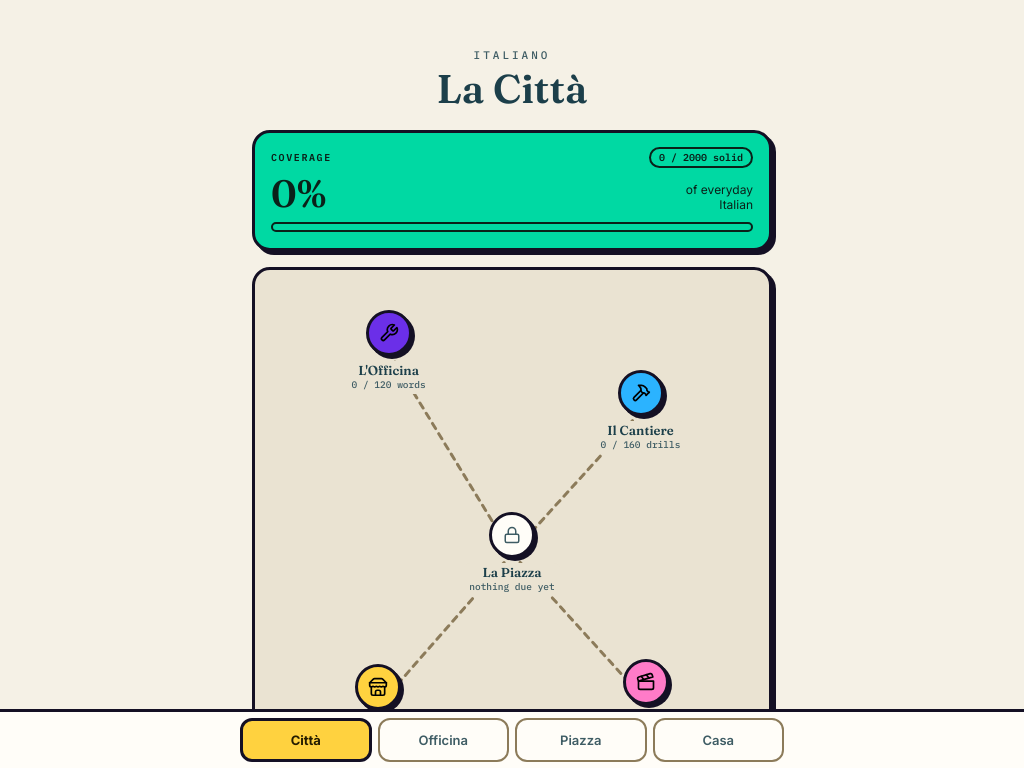
Scenario: App › opens grammar from Il Cantiere and returns to the city
The width and height of the screenshot is (1024, 768).
Click the button "Il Cantiere 0 / 160 drills" at (640, 412), box [588,370,694,454]
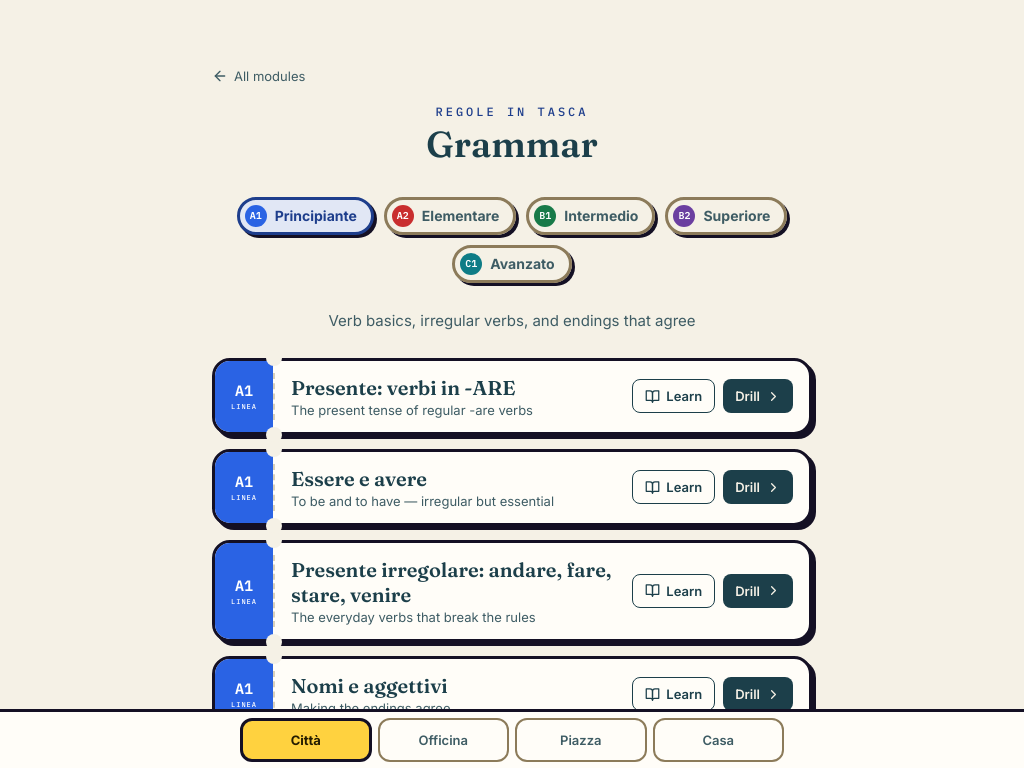
Check: the text "Regole in tasca" is shown, box [436,104,588,119]
Click the button "All modules" at (259, 76), box [212,68,305,84]
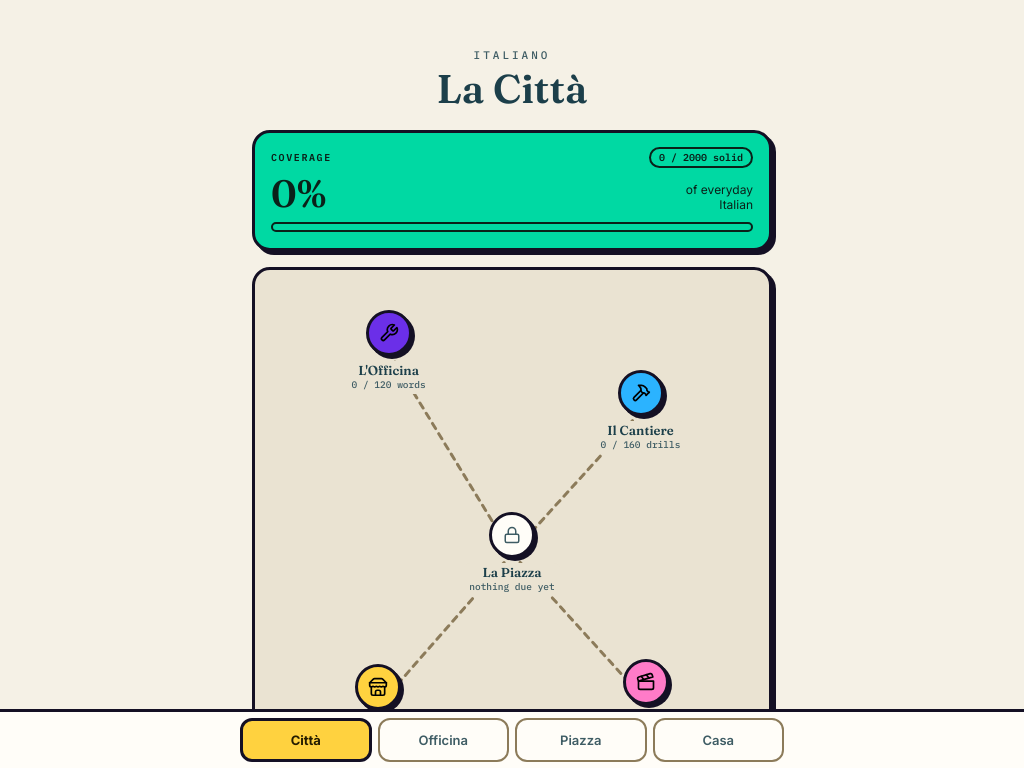
Check: the heading "La Città" is shown, box [437,64,587,113]
